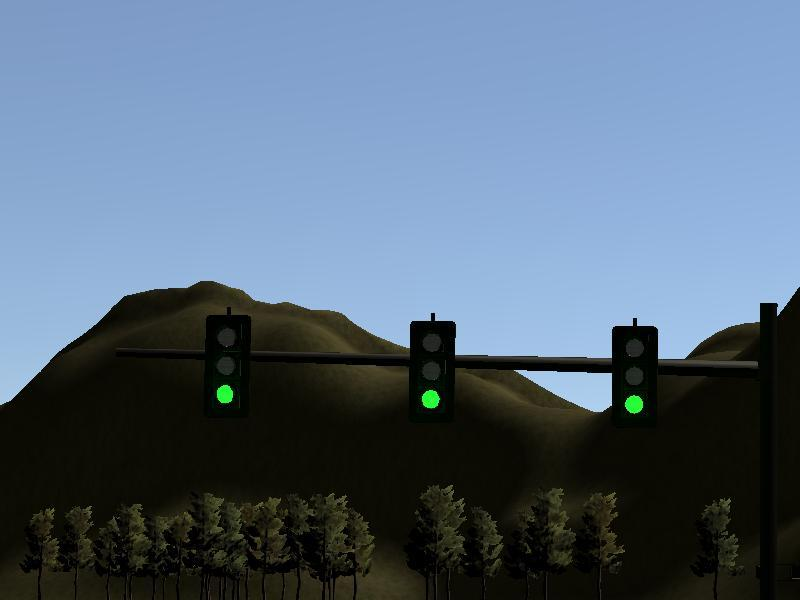Green: (203, 314, 250, 420), (611, 326, 658, 430), (408, 320, 454, 422)
